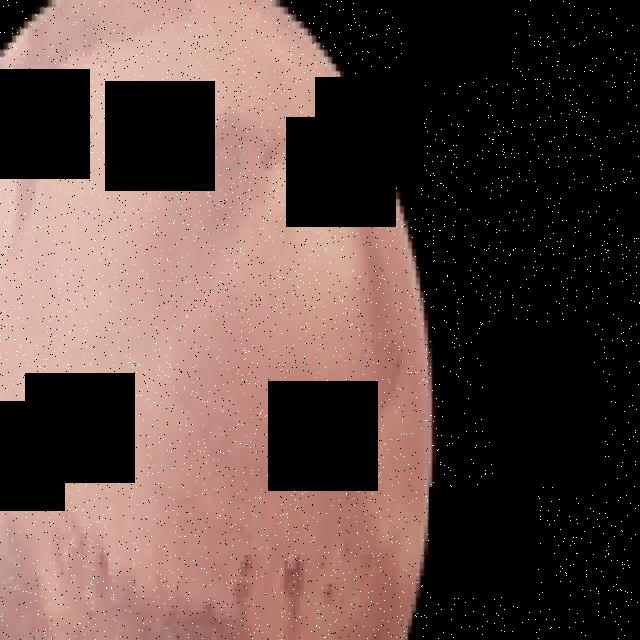Mars: (0, 0, 432, 640)
